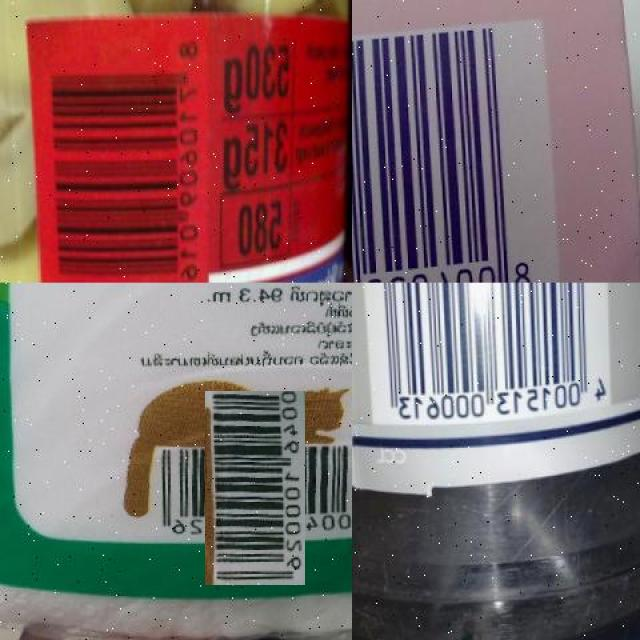Barcode: (352, 17, 563, 283), (38, 16, 215, 283), (365, 283, 615, 424), (181, 415, 328, 562)
